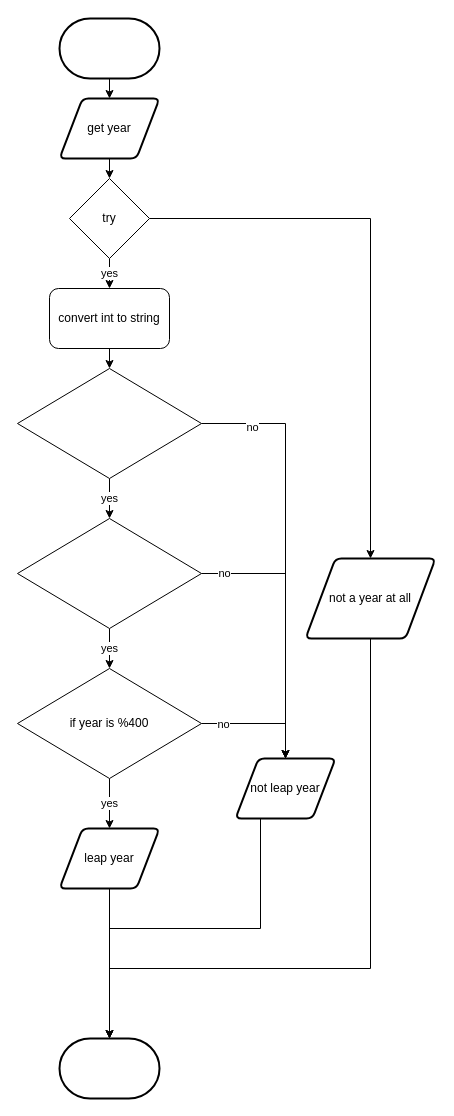
Some shapes in this 454 by 1116 pixel diagram are drawn without their labels. Each missing label, with the centre of its shape:
if year is %100: the point at 109,573
if year is %4: the point at 109,423
start: the point at 109,48
stop: the point at 109,1068
